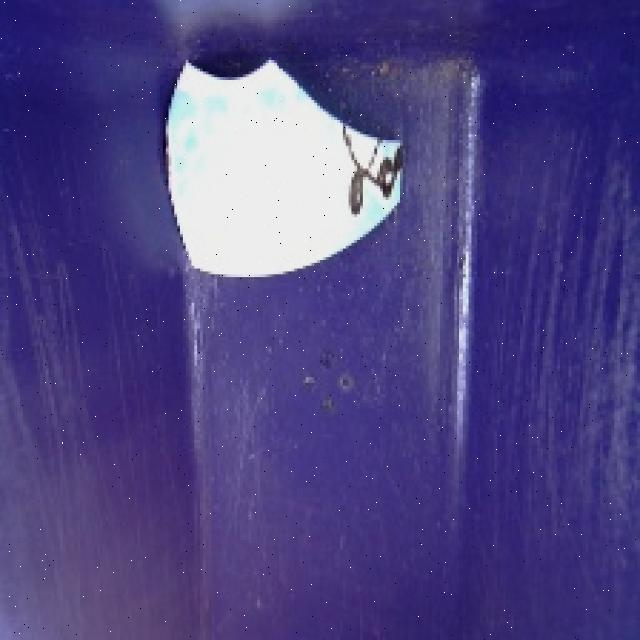china: (158, 46, 411, 290)
